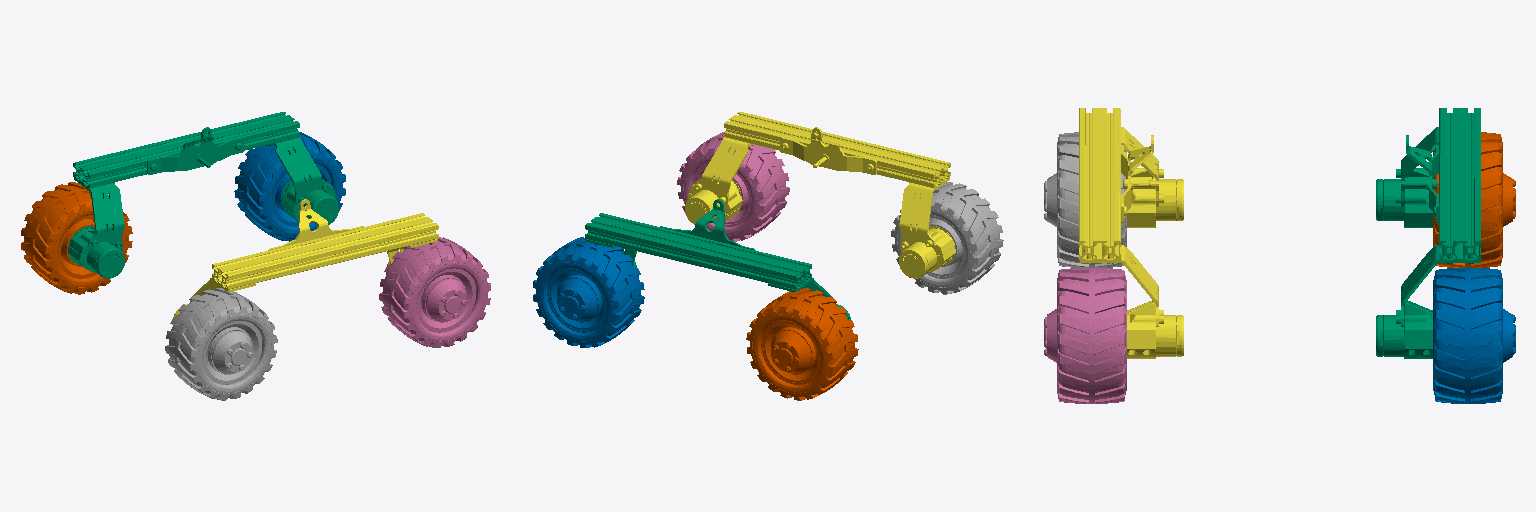
URDF robot description (leo):
<?xml version="1.0" ?>
<!-- =================================================================================== -->
<!-- |    This document was autogenerated by xacro from leo_temp.urdf.xacro            | -->
<!-- |    EDITING THIS FILE BY HAND IS NOT RECOMMENDED                                 | -->
<!-- =================================================================================== -->
<robot name="leo">
  <!-- LEO GAZEBO -->
  <link name="base_footprint"/>
  <link name="base_link">
    <inertial>
      <mass value="1.584994"/>
      <origin xyz="-0.019662 0.011643 -0.031802"/>
      <inertia ixx="0.01042" ixy="0.001177" ixz="-0.0008871" iyy="0.01045" iyz="0.0002226" izz="0.01817"/>
    </inertial>
    <visual>
      <geometry>
        <mesh filename="package://leo_description/models/Chassis.stl"/>
      </geometry>
    </visual>
    <collision>
      <geometry>
        <mesh filename="package://leo_description/models/Chassis_outline.stl"/>
      </geometry>
    </collision>
  </link>
  <link name="rocker_L_link">
    <inertial>
      <mass value="1.387336"/>
      <origin xyz="0 0.01346 -0.06506"/>
      <inertia ixx="0.002956" ixy="-0.000001489324" ixz="-0.000008103407" iyy="0.02924" iyz="0.00007112" izz="0.02832"/>
    </inertial>
    <visual>
      <geometry>
        <mesh filename="package://leo_description/models/Rocker.stl"/>
      </geometry>
    </visual>
    <collision>
      <geometry>
        <mesh filename="package://leo_description/models/Rocker_outline.stl"/>
      </geometry>
    </collision>
  </link>
  <link name="rocker_R_link">
    <inertial>
      <mass value="1.387336"/>
      <origin xyz="0 0.01346 -0.06506"/>
      <inertia ixx="0.002956" ixy="-0.000001489324" ixz="-0.000008103407" iyy="0.02924" iyz="0.00007112" izz="0.02832"/>
    </inertial>
    <visual>
      <geometry>
        <mesh filename="package://leo_description/models/Rocker.stl"/>
      </geometry>
    </visual>
    <collision>
      <geometry>
        <mesh filename="package://leo_description/models/Rocker_outline.stl"/>
      </geometry>
    </collision>
  </link>
  <link name="wheel_FL_link">
    <inertial>
      <mass value="0.283642"/>
      <origin xyz="0 0.030026 0"/>
      <inertia ixx="0.000391" ixy="0.00000123962" ixz="5.52582e-7" iyy="0.0004716" iyz="-0.000002082042" izz="0.000391"/>
    </inertial>
    <visual>
      <geometry>
        <mesh filename="package://leo_description/models/WheelA.stl"/>
      </geometry>
    </visual>
    <collision>
      <origin rpy="1.5707963267948966 0 0" xyz="0 0.04485 0"/>
      <geometry>
        <cylinder length="0.07" radius="0.057"/>
      </geometry>
    </collision>
    <collision>
      <origin rpy="1.5707963267948966 0 0" xyz="0 0.04485 0"/>
      <geometry>
        <cylinder length="0.04" radius="0.0625"/>
      </geometry>
    </collision>
    <collision>
      <geometry>
        <mesh filename="package://leo_description/models/Wheel_outline.stl"/>
      </geometry>
    </collision>
  </link>
  <link name="wheel_RL_link">
    <inertial>
      <mass value="0.283642"/>
      <origin xyz="0 0.030026 0"/>
      <inertia ixx="0.000391" ixy="0.00000123962" ixz="5.52582e-7" iyy="0.0004716" iyz="-0.000002082042" izz="0.000391"/>
    </inertial>
    <visual>
      <geometry>
        <mesh filename="package://leo_description/models/WheelA.stl"/>
      </geometry>
    </visual>
    <collision>
      <origin rpy="1.5707963267948966 0 0" xyz="0 0.04485 0"/>
      <geometry>
        <cylinder length="0.07" radius="0.057"/>
      </geometry>
    </collision>
    <collision>
      <origin rpy="1.5707963267948966 0 0" xyz="0 0.04485 0"/>
      <geometry>
        <cylinder length="0.04" radius="0.0625"/>
      </geometry>
    </collision>
    <collision>
      <geometry>
        <mesh filename="package://leo_description/models/Wheel_outline.stl"/>
      </geometry>
    </collision>
  </link>
  <link name="wheel_FR_link">
    <inertial>
      <mass value="0.283642"/>
      <origin xyz="0 0.030026 0"/>
      <inertia ixx="0.000391" ixy="0.00000123962" ixz="5.52582e-7" iyy="0.0004716" iyz="-0.000002082042" izz="0.000391"/>
    </inertial>
    <visual>
      <geometry>
        <mesh filename="package://leo_description/models/WheelB.stl"/>
      </geometry>
    </visual>
    <collision>
      <origin rpy="1.5707963267948966 0 0" xyz="0 0.04485 0"/>
      <geometry>
        <cylinder length="0.07" radius="0.057"/>
      </geometry>
    </collision>
    <collision>
      <origin rpy="1.5707963267948966 0 0" xyz="0 0.04485 0"/>
      <geometry>
        <cylinder length="0.04" radius="0.0625"/>
      </geometry>
    </collision>
    <collision>
      <geometry>
        <mesh filename="package://leo_description/models/Wheel_outline.stl"/>
      </geometry>
    </collision>
  </link>
  <link name="wheel_RR_link">
    <inertial>
      <mass value="0.283642"/>
      <origin xyz="0 0.030026 0"/>
      <inertia ixx="0.000391" ixy="0.00000123962" ixz="5.52582e-7" iyy="0.0004716" iyz="-0.000002082042" izz="0.000391"/>
    </inertial>
    <visual>
      <geometry>
        <mesh filename="package://leo_description/models/WheelB.stl"/>
      </geometry>
    </visual>
    <collision>
      <origin rpy="1.5707963267948966 0 0" xyz="0 0.04485 0"/>
      <geometry>
        <cylinder length="0.07" radius="0.057"/>
      </geometry>
    </collision>
    <collision>
      <origin rpy="1.5707963267948966 0 0" xyz="0 0.04485 0"/>
      <geometry>
        <cylinder length="0.04" radius="0.0625"/>
      </geometry>
    </collision>
    <collision>
      <geometry>
        <mesh filename="package://leo_description/models/Wheel_outline.stl"/>
      </geometry>
    </collision>
  </link>
  <link name="Antenna1_link">
    <inertial>
      <mass value="0.001237"/>
      <origin xyz="0 0 0.028828"/>
      <inertia ixx="2.5529e-7" ixy="0.0" ixz="0.0" iyy="2.5529e-7" iyz="0.0" izz="1.354e-8"/>
    </inertial>
    <visual>
      <geometry>
        <mesh filename="package://leo_description/models/Antenna1.stl"/>
      </geometry>
    </visual>
    <collision>
      <origin xyz="0 0 0.028"/>
      <geometry>
        <cylinder length="0.056" radius="0.0055"/>
      </geometry>
    </collision>
  </link>
  <link name="camera_frame"/>
  <link name="camera_optical_frame"/>
  <link name="imu_frame"/>
  <!-- JOINTS -->
  <joint name="base_joint" type="fixed">
    <origin rpy="0 0 0" xyz="0 0 0.19783"/>
    <parent link="base_footprint"/>
    <child link="base_link"/>
  </joint>
  <joint name="rocker_L_joint" type="fixed">
    <origin rpy="0 0 3.141592653589793" xyz="0.00263 0.14167 -0.04731"/>
    <parent link="base_link"/>
    <child link="rocker_L_link"/>
    <axis xyz="0 1 0"/>
    <limit effort="100.0" lower="-0.24" upper="0.24" velocity="100.0"/>
    <dynamics damping="0.1" friction="1.0"/>
  </joint>
  <joint name="rocker_R_joint" type="fixed">
    <origin rpy="0 0 0" xyz="0.00263 -0.14167 -0.04731"/>
    <parent link="base_link"/>
    <child link="rocker_R_link"/>
    <axis xyz="0 1 0"/>
    <limit effort="100.0" lower="-0.24" upper="0.24" velocity="100.0"/>
    <dynamics damping="0.1" friction="1.0"/>
    <mimic joint="rocker_L_joint"/>
  </joint>
  <joint name="wheel_FL_joint" type="continuous">
    <origin rpy="0 0 0" xyz="-0.15256 -0.08214 -0.08802"/>
    <parent link="rocker_L_link"/>
    <child link="wheel_FL_link"/>
    <axis xyz="0 -1 0"/>
    <limit effort="2.0" velocity="6.0"/>
    <dynamics damping="0.1" friction="0.3125"/>
  </joint>
  <joint name="wheel_RL_joint" type="continuous">
    <origin rpy="0 0 0" xyz="0.15256 -0.08214 -0.08802"/>
    <parent link="rocker_L_link"/>
    <child link="wheel_RL_link"/>
    <axis xyz="0 -1 0"/>
    <limit effort="2.0" velocity="6.0"/>
    <dynamics damping="0.1" friction="0.3125"/>
  </joint>
  <joint name="wheel_FR_joint" type="continuous">
    <origin rpy="0 0 0" xyz="0.15256 -0.08214 -0.08802"/>
    <parent link="rocker_R_link"/>
    <child link="wheel_FR_link"/>
    <axis xyz="0 1 0"/>
    <limit effort="2.0" velocity="6.0"/>
    <dynamics damping="0.1" friction="0.3125"/>
  </joint>
  <joint name="wheel_RR_joint" type="continuous">
    <origin rpy="0 0 0" xyz="-0.15256 -0.08214 -0.08802"/>
    <parent link="rocker_R_link"/>
    <child link="wheel_RR_link"/>
    <axis xyz="0 1 0"/>
    <limit effort="2.0" velocity="6.0"/>
    <dynamics damping="0.1" friction="0.3125"/>
  </joint>
  <joint name="Antenna1_joint" type="fixed">
    <origin rpy="0 0 0" xyz="-0.0052 0.056 -0.0065"/>
    <parent link="base_link"/>
    <child link="Antenna1_link"/>
  </joint>
  <joint name="camera_joint" type="fixed">
    <origin rpy="0 0.2094 0" xyz="0.0971 0 -0.0427"/>
    <parent link="base_link"/>
    <child link="camera_frame"/>
  </joint>
  <joint name="camera_optical_joint" type="fixed">
    <origin rpy="-1.5707963267948966 0.0 -1.5707963267948966" xyz="0 0 0"/>
    <parent link="camera_frame"/>
    <child link="camera_optical_frame"/>
  </joint>
  <joint name="imu_joint" type="fixed">
    <origin rpy="0 0 0" xyz="0.0628 -0.0314 -0.0393"/>
    <parent link="base_link"/>
    <child link="imu_frame"/>
  </joint>
</robot>

--- Render facts (derived) ---
3 views of the same robot in one strip: view 1: azimuth 30°, elevation 25°; view 2: azimuth 150°, elevation 25°; view 3: azimuth 270°, elevation 25° (orthographic).
Model leo with 12 links and 11 joints (4 continuous, 7 fixed), rooted at base_footprint, posed all joints at 0.
Links seen in each view (by area): view 1: rocker_L_link, wheel_RR_link, wheel_FR_link, rocker_R_link, wheel_RL_link, wheel_FL_link; view 2: rocker_R_link, wheel_RL_link, wheel_FL_link, rocker_L_link, wheel_RR_link, wheel_FR_link; view 3: rocker_L_link, rocker_R_link, wheel_FR_link, wheel_FL_link, wheel_RL_link, wheel_RR_link.
Boxes of the visible links, x1=… form: rocker_L_link: x1=68, y1=112, x2=338, y2=278; wheel_RR_link: x1=165, y1=288, x2=277, y2=400; wheel_FR_link: x1=379, y1=237, x2=490, y2=347; rocker_R_link: x1=174, y1=199, x2=438, y2=316; wheel_RL_link: x1=21, y1=182, x2=132, y2=294; wheel_FL_link: x1=234, y1=131, x2=345, y2=241; rocker_R_link: x1=685, y1=112, x2=955, y2=278; wheel_RL_link: x1=746, y1=288, x2=858, y2=400; wheel_FL_link: x1=533, y1=237, x2=644, y2=347; rocker_L_link: x1=585, y1=199, x2=850, y2=319; wheel_RR_link: x1=891, y1=182, x2=1003, y2=294; wheel_FR_link: x1=677, y1=131, x2=789, y2=241; rocker_L_link: x1=1376, y1=108, x2=1480, y2=358; rocker_R_link: x1=1079, y1=108, x2=1183, y2=358; wheel_FR_link: x1=1044, y1=267, x2=1126, y2=403; wheel_FL_link: x1=1433, y1=267, x2=1515, y2=403; wheel_RL_link: x1=1433, y1=132, x2=1515, y2=267; wheel_RR_link: x1=1044, y1=132, x2=1126, y2=267.
Size in the robot's own frame: 0.4351 by 0.4476 by 0.2034 metres.
6 mesh visuals loaded from 5 distinct referenced files (3 binary STL); not drawn: 2 (reference not matched to a file when rendering).
